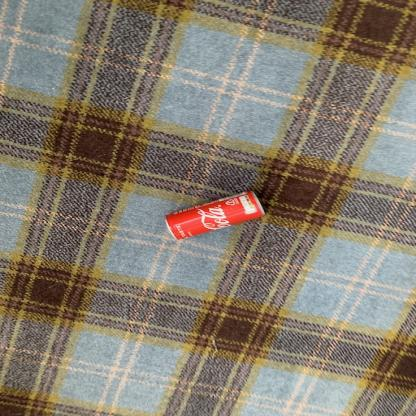trash: (166, 194, 266, 249)
